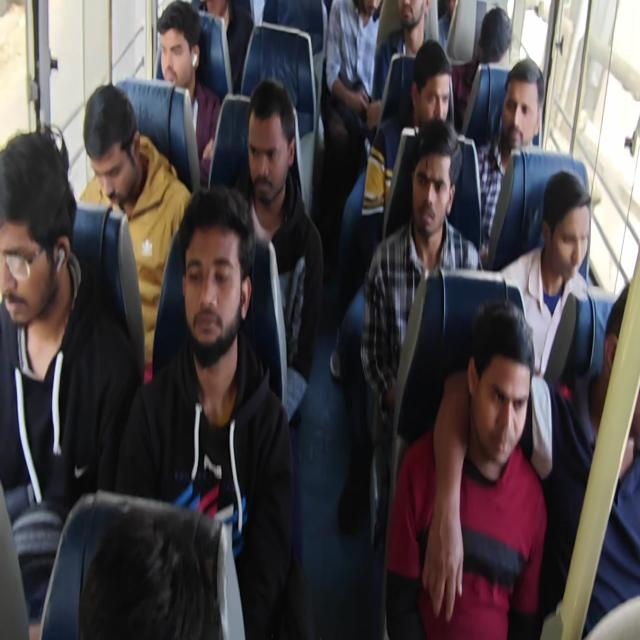person: (73, 496, 192, 640), (0, 133, 72, 308), (173, 202, 240, 336), (543, 156, 603, 292), (80, 82, 144, 194), (470, 328, 520, 458), (487, 59, 545, 164), (603, 271, 640, 427), (403, 132, 451, 246), (242, 95, 290, 191), (151, 17, 200, 87), (418, 52, 458, 130), (471, 1, 514, 70), (392, 0, 431, 49), (351, 0, 384, 23)
